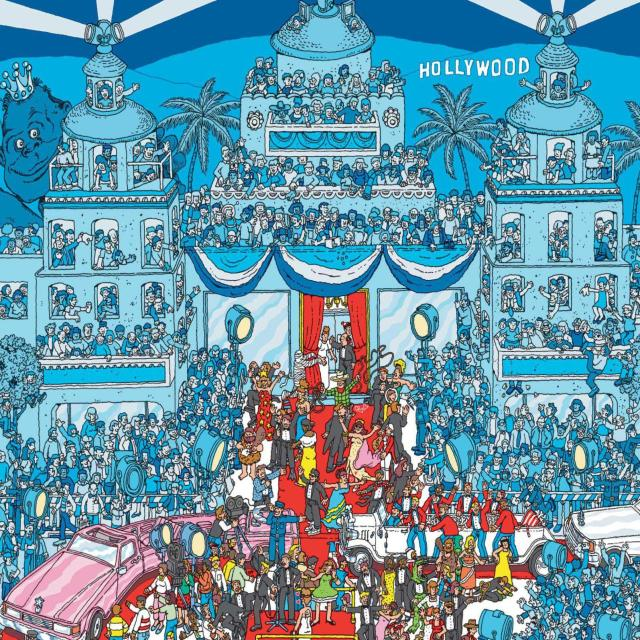waldo: (341, 321, 352, 336)
